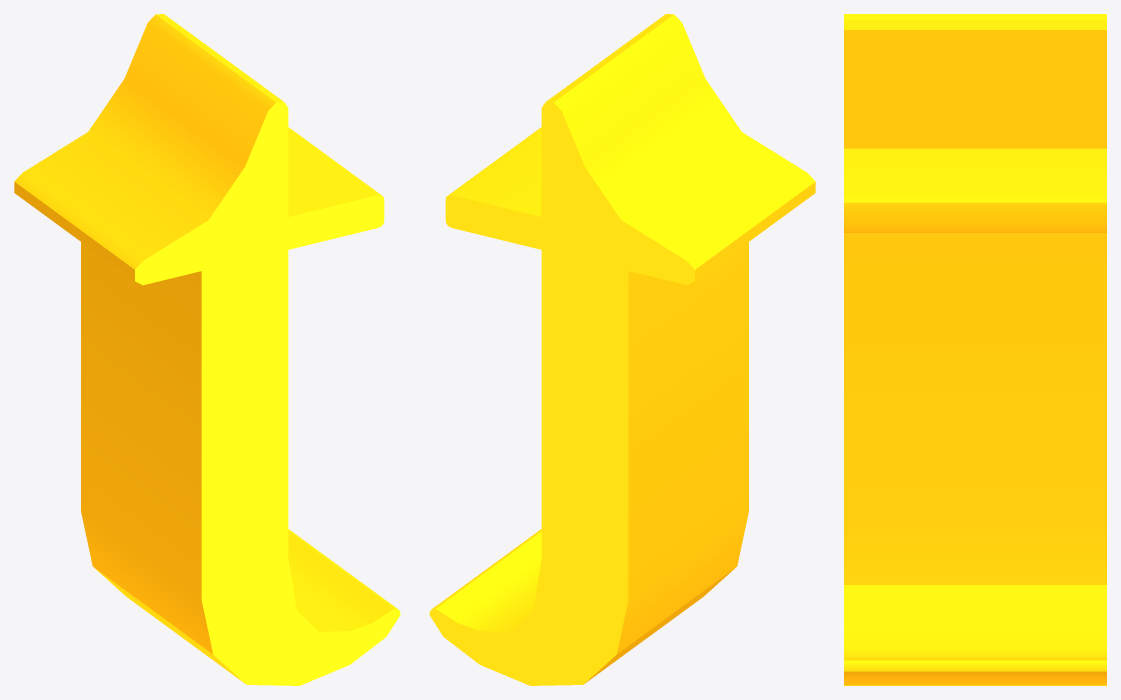
The model's file is T_Soul_Yellow.glb.
3 views of the same model, side by side, from view 1: azimuth 30°, elevation 25°; view 2: azimuth 150°, elevation 25°; view 3: azimuth 270°, elevation 25° (orthographic). The views are drawn at different scales.
Visible parts, largest first — view 1: t_Soul_Yellow; view 2: t_Soul_Yellow; view 3: t_Soul_Yellow.
Boxes of the visible parts, bbox=[...] form: t_Soul_Yellow: bbox=[14, 14, 400, 685]; t_Soul_Yellow: bbox=[429, 14, 815, 685]; t_Soul_Yellow: bbox=[844, 14, 1106, 685].
Size of what is drawn, in the model's own units: 0.0573 by 0.1213 by 0.045.
2 materials, 2 textured.
